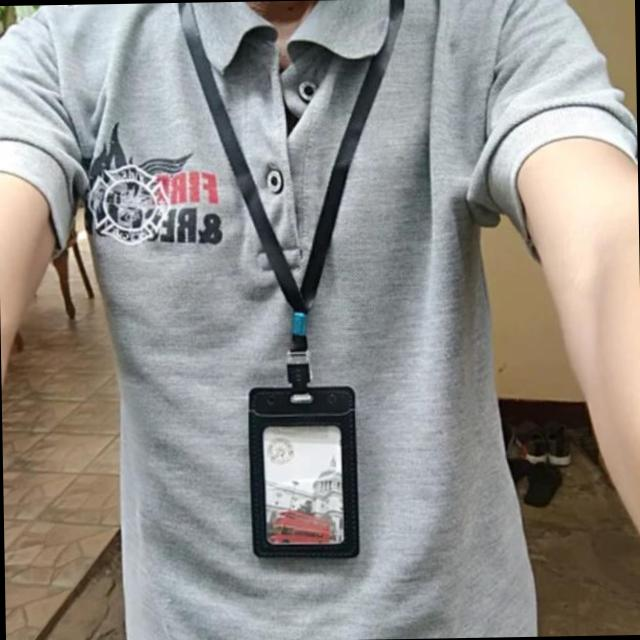id_card: (174, 0, 416, 557)
